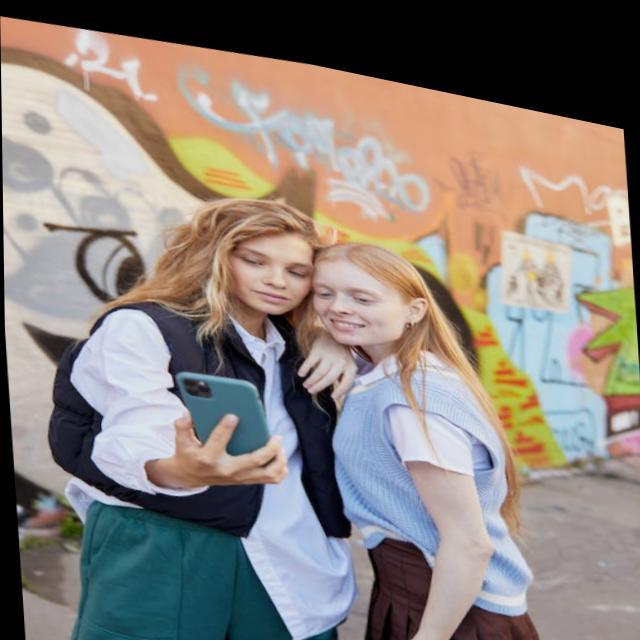Nonhelmet: (173, 185, 308, 328), (312, 228, 434, 358)
